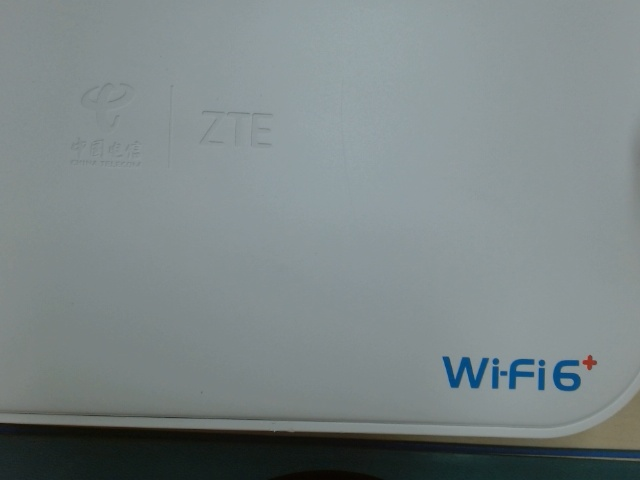AJ_ZTEWIFI6Plus: (433, 343, 608, 400)
